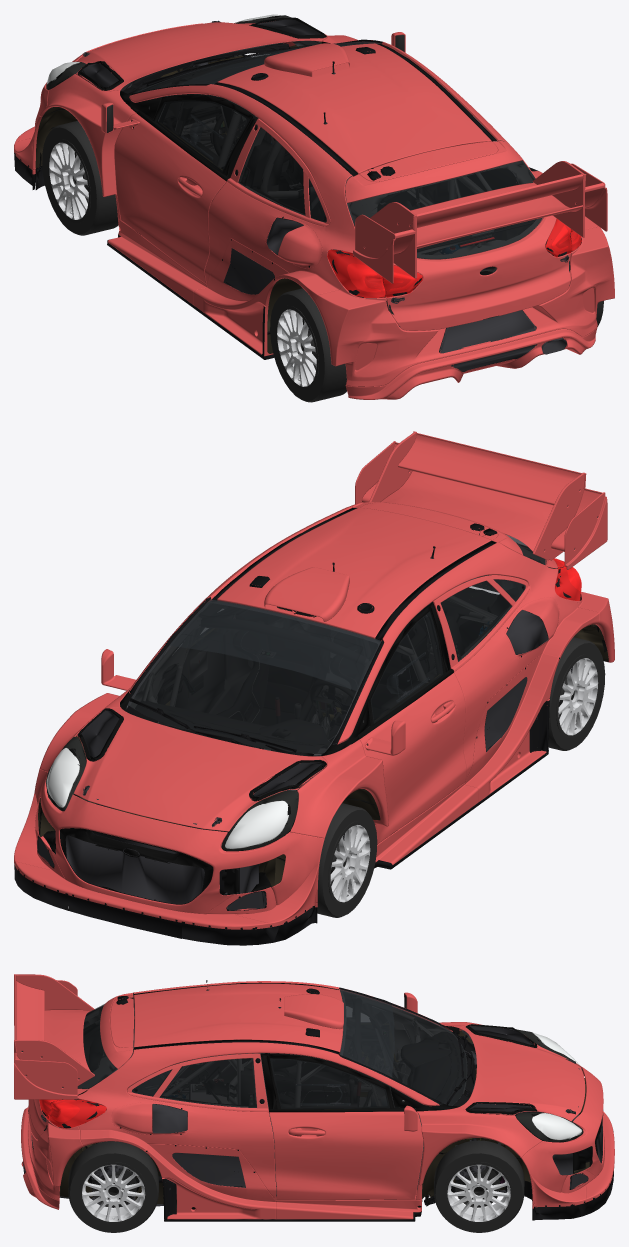
File: puma_rally1.glb
The picture shows the model from 3 angles, top to bottom: view 1: azimuth 30°, elevation 25°; view 2: azimuth 150°, elevation 25°; view 3: azimuth 270°, elevation 25°; orthographic projection. The views are drawn at different scales.
Parts seen in each view (by area): view 1: Body, Wheel_RL, Wheel_FL; view 2: Body, Wheel_FL, Wheel_RL, SteeringWheel; view 3: Body, Wheel_FR, Wheel_RR.
Boxes of the visible parts, x1=… form: Body: x1=14, y1=14, x2=614, y2=399; Wheel_RL: x1=270, y1=288, x2=346, y2=402; Wheel_FL: x1=42, y1=120, x2=118, y2=235; Body: x1=14, y1=431, x2=614, y2=945; Wheel_FL: x1=317, y1=803, x2=377, y2=917; Wheel_RL: x1=548, y1=637, x2=605, y2=750; SteeringWheel: x1=310, y1=680, x2=354, y2=726; Body: x1=14, y1=974, x2=614, y2=1221; Wheel_FR: x1=434, y1=1140, x2=524, y2=1232; Wheel_RR: x1=68, y1=1141, x2=158, y2=1232.
Size of the model in its own units: 1.97 by 1.42 by 4.28.
36 materials, 1 textured.
